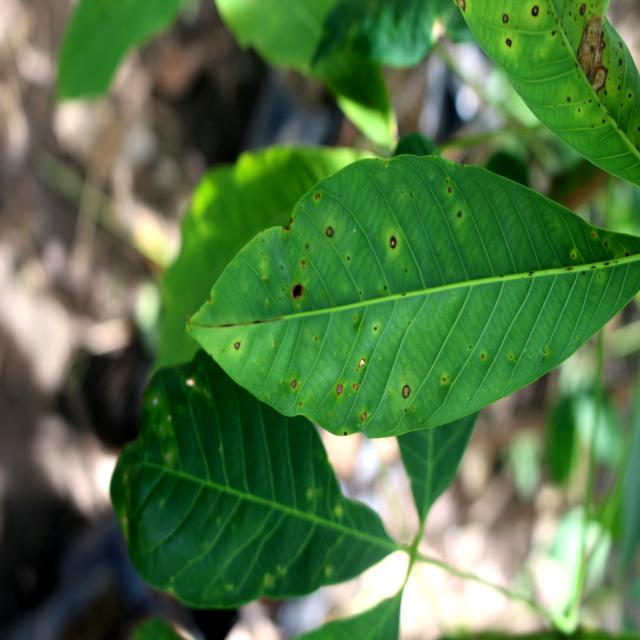Colletotrichum: (402, 385, 410, 398), (326, 225, 334, 238), (390, 236, 397, 250), (531, 6, 539, 16), (336, 384, 343, 395), (502, 14, 509, 23), (506, 38, 512, 47)
Leaf-Blight: (576, 16, 608, 95)
